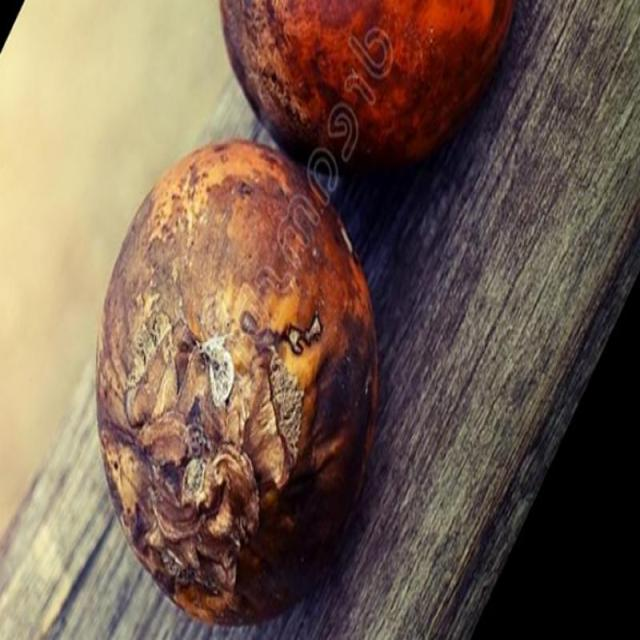damaged: (98, 139, 378, 623), (221, 0, 514, 162)
